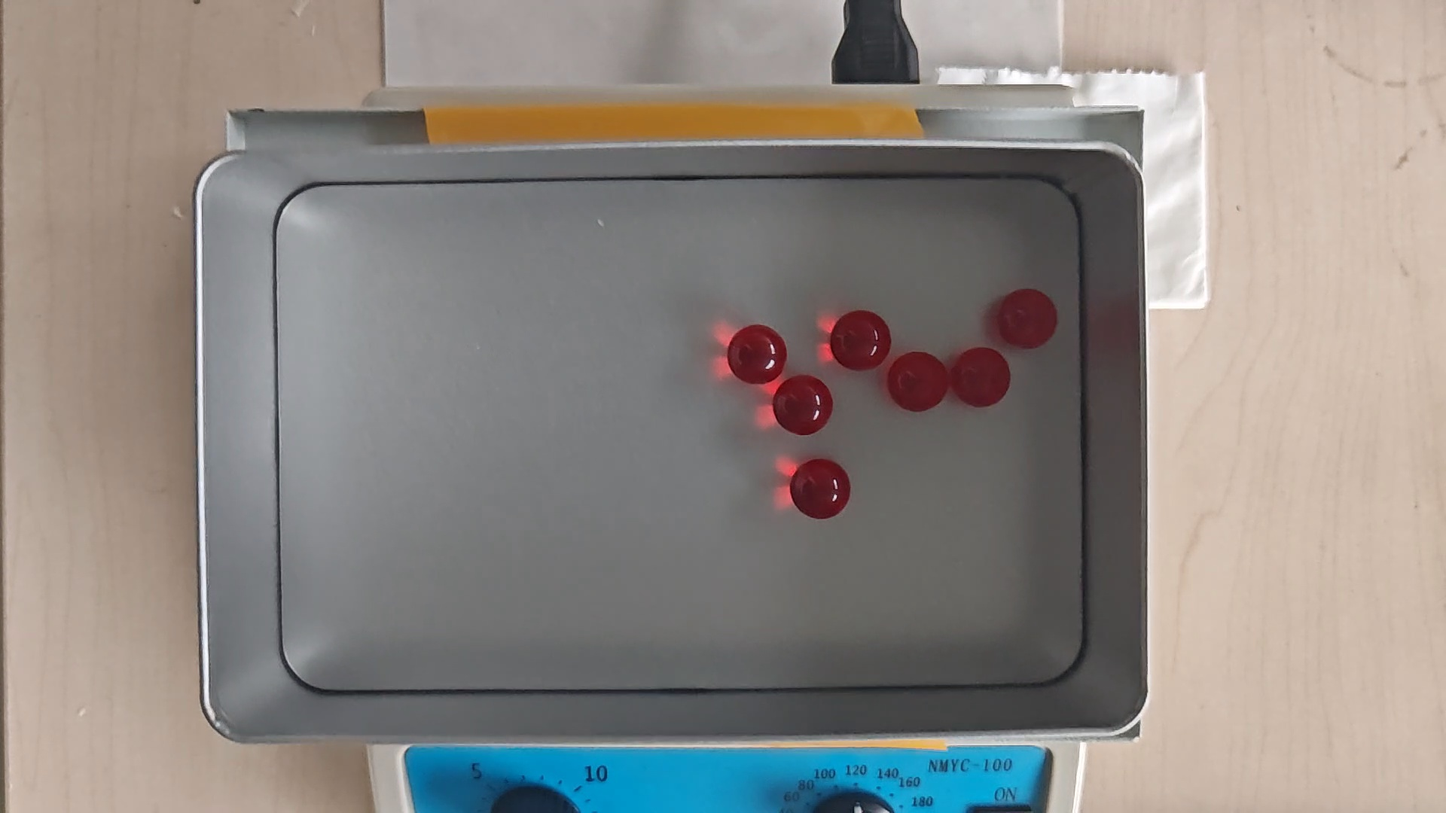ball: (996, 289, 1059, 350), (831, 309, 892, 371), (953, 346, 1011, 410), (728, 324, 788, 385), (790, 459, 851, 519), (888, 352, 948, 413), (773, 375, 831, 437)
container: (275, 178, 1084, 687)
